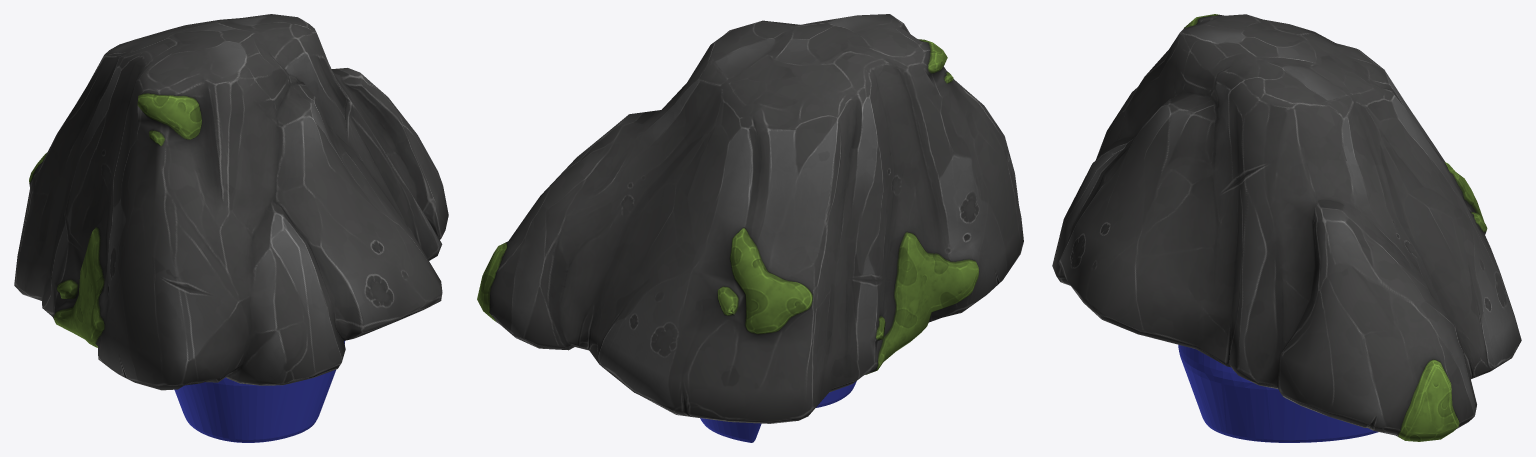
File: astn6.fbx
3 views of the same model, side by side, from view 1: azimuth 30°, elevation 25°; view 2: azimuth 150°, elevation 25°; view 3: azimuth 270°, elevation 25° (orthographic). The views are drawn at different scales.
Parts seen in each view (by area): view 1: node_id109, node_id42; view 2: node_id109, node_id42; view 3: node_id109, node_id42.
Part boxes in pixels (box(x1,y1,x2,y2)): node_id109: box(14, 14, 448, 390); node_id42: box(174, 341, 344, 442); node_id109: box(477, 14, 1023, 423); node_id42: box(700, 381, 856, 442); node_id109: box(1052, 14, 1521, 441); node_id42: box(1178, 344, 1378, 442).
Bounding box in the file's own units: 71.42 × 61.97 × 72.61.
Materials: 2 (2 with a texture image).
